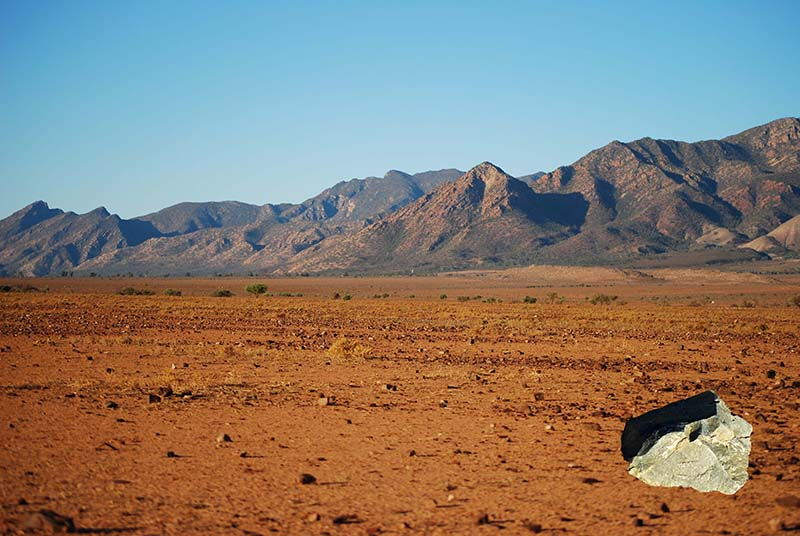Rocks: (618, 382, 761, 500)
